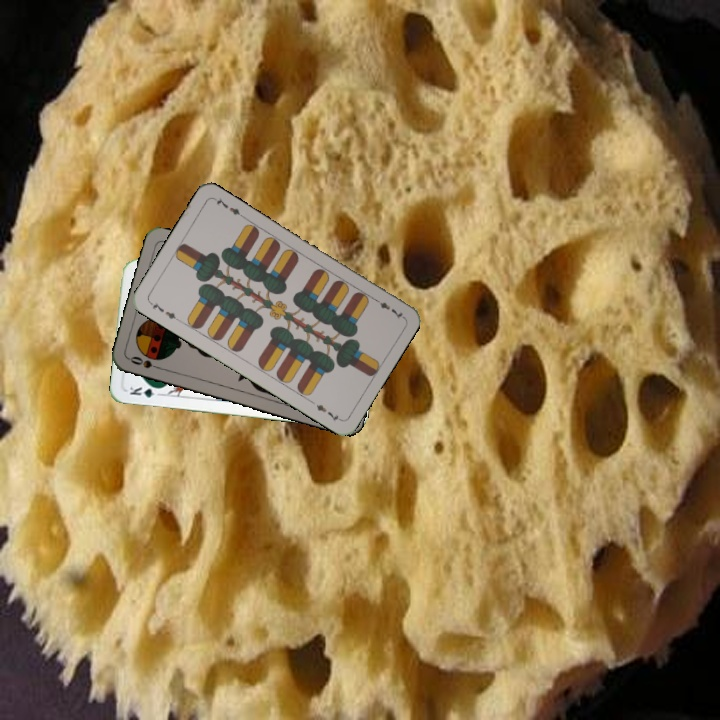E7: (369, 294, 406, 322), (145, 297, 182, 324)
GK: (126, 383, 165, 400)
SO: (126, 352, 165, 373)
